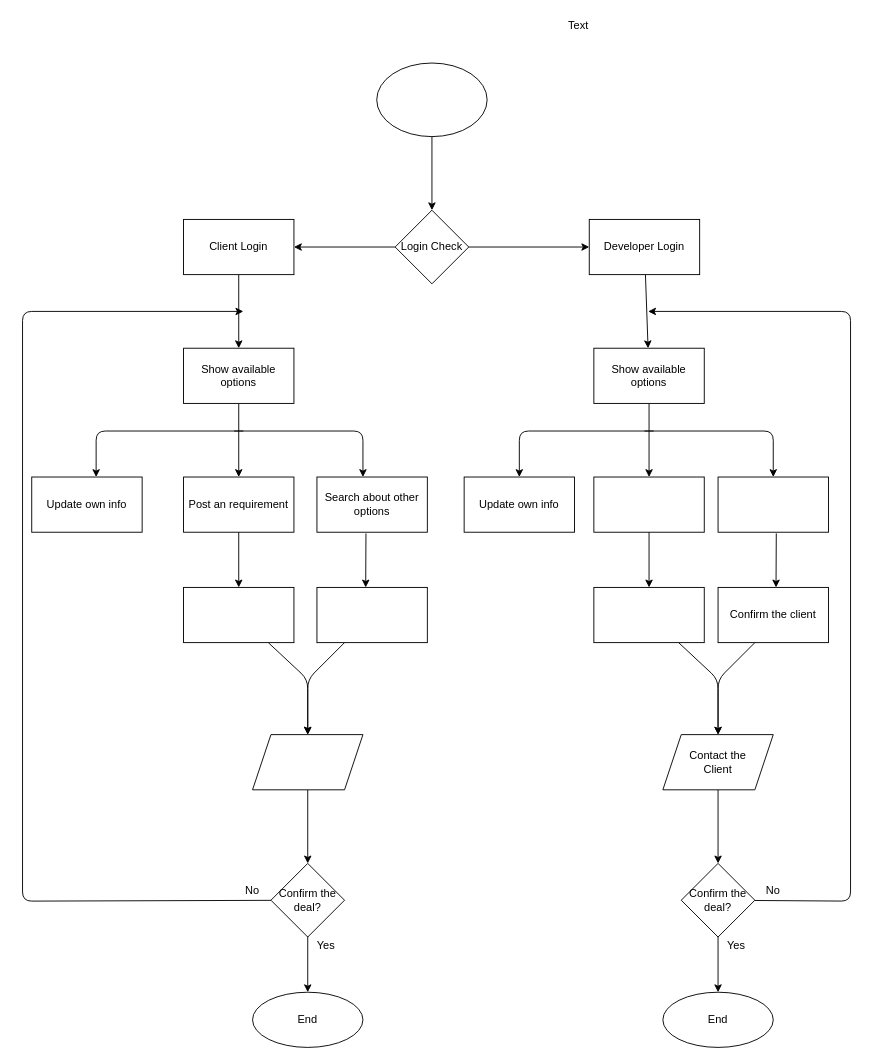
This 874x1064 diagram has some shape labels left out. The centre of each missing label's shape, as x and y in pixels:
"Check the recieved matches" goes at [238,614].
"Check the recieved requests" goes at [648,614].
"Contact the developer" goes at [307,762].
"Make an offer to the developer" goes at [371,614].
"Post an product" goes at [648,504].
"Search available clients" goes at [772,504].
"Start" goes at [431,99].
